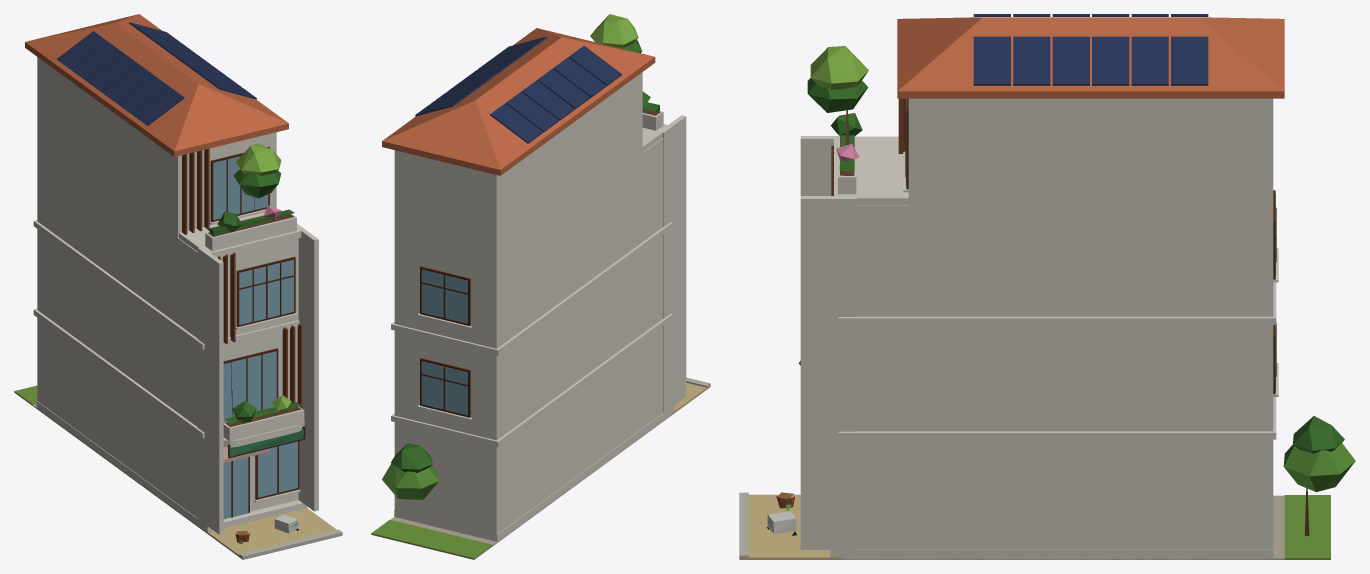
File: bay2_mid2.glb
3 views of the same model, side by side, from view 1: azimuth 30°, elevation 25°; view 2: azimuth 150°, elevation 25°; view 3: azimuth 270°, elevation 25° (orthographic). The views are drawn at different scales.
Visible parts, largest first — view 1: body; view 2: body; view 3: body.
Boxes of the visible parts, bbox=[...] form: body: bbox=[14, 14, 342, 559]; body: bbox=[371, 14, 710, 559]; body: bbox=[739, 14, 1355, 559].
Size of the model in its own units: 4.6 by 15.53 by 16.56.
